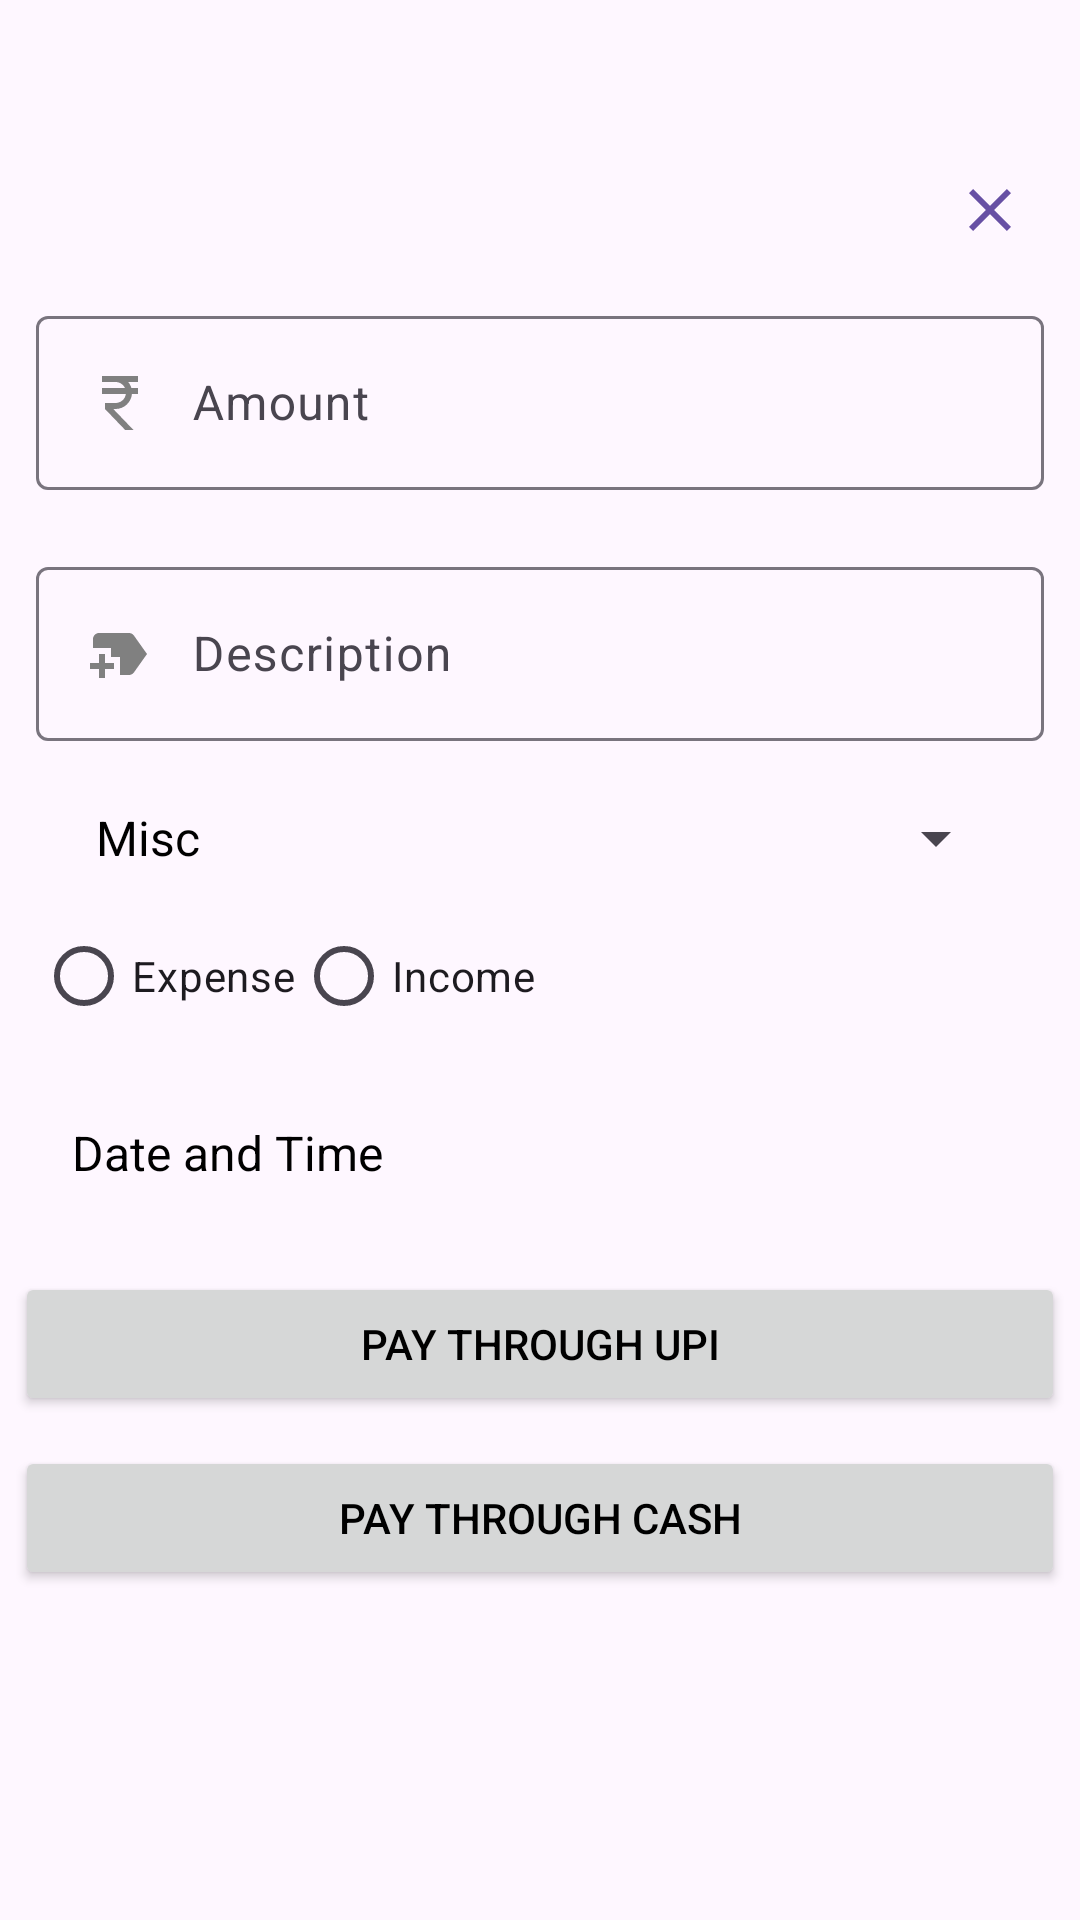

Icons on this 1080*1920 Android screen, each with its box as [x1, y1, x2, y2]:
close: [969, 189, 1011, 231]
